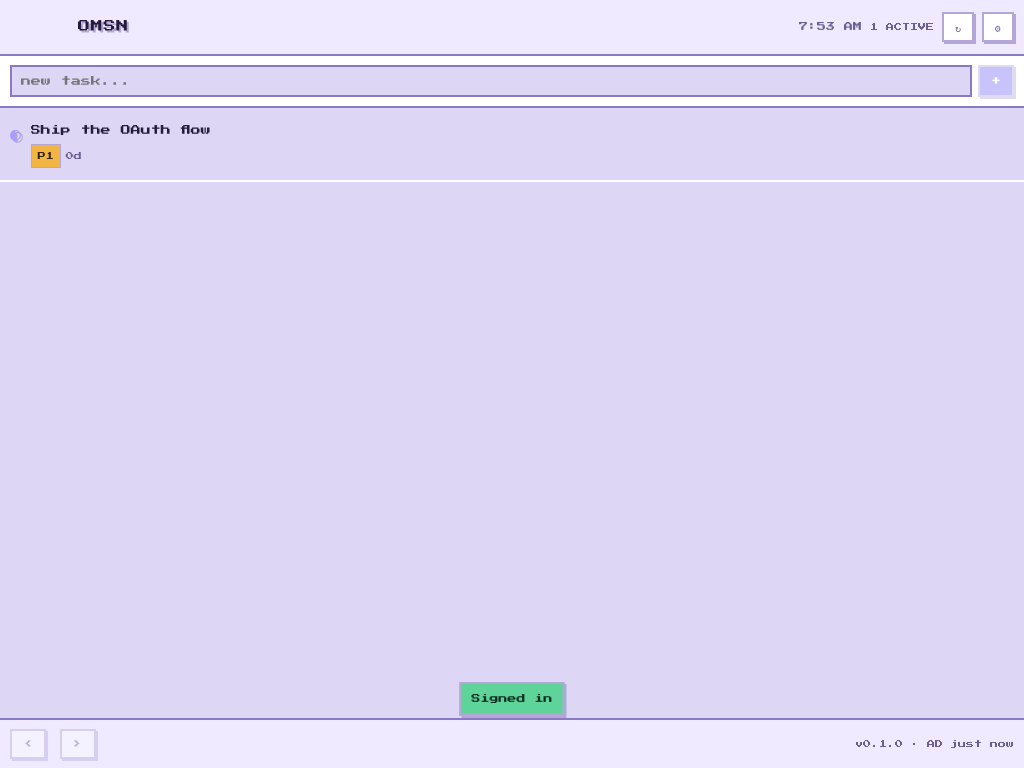
Scenario: deleting a task (R7) › asks first, and says the deletion cannot be undone
Check: the text "Ship the OAuth flow" is shown, box [31, 125, 211, 135]
Click the button "Ship the OAuth flow P1 0d". click: (121, 130)
box: [31, 125, 211, 168]
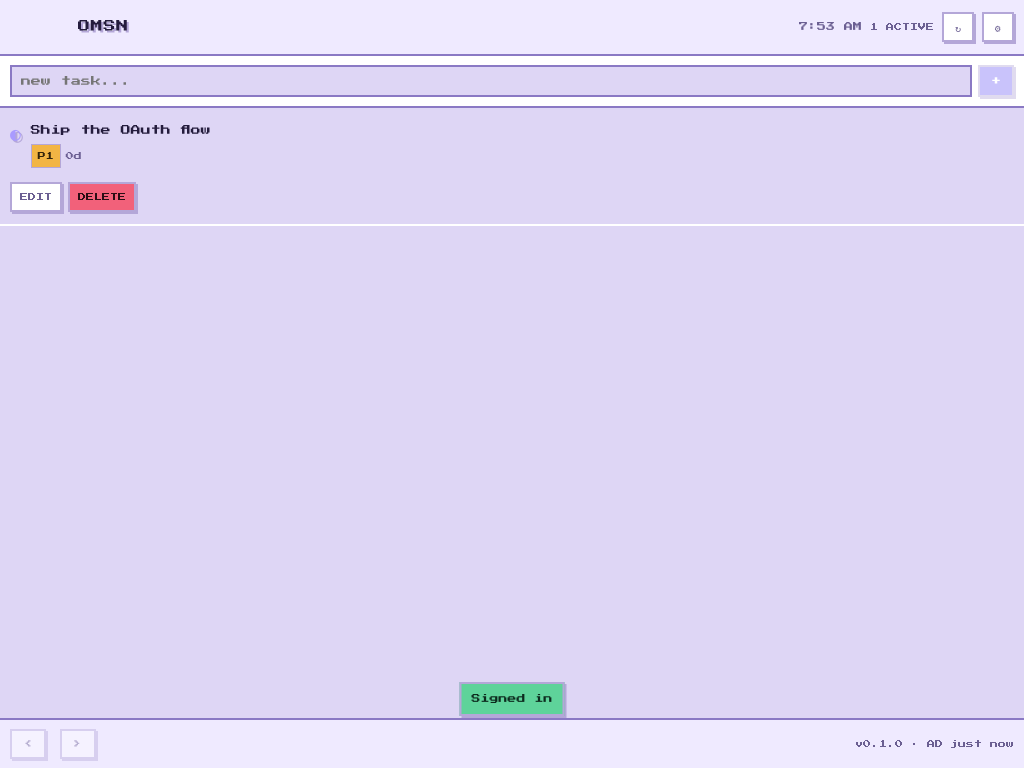
Click the button "DELETE". click: (102, 197)
box: [68, 182, 136, 212]
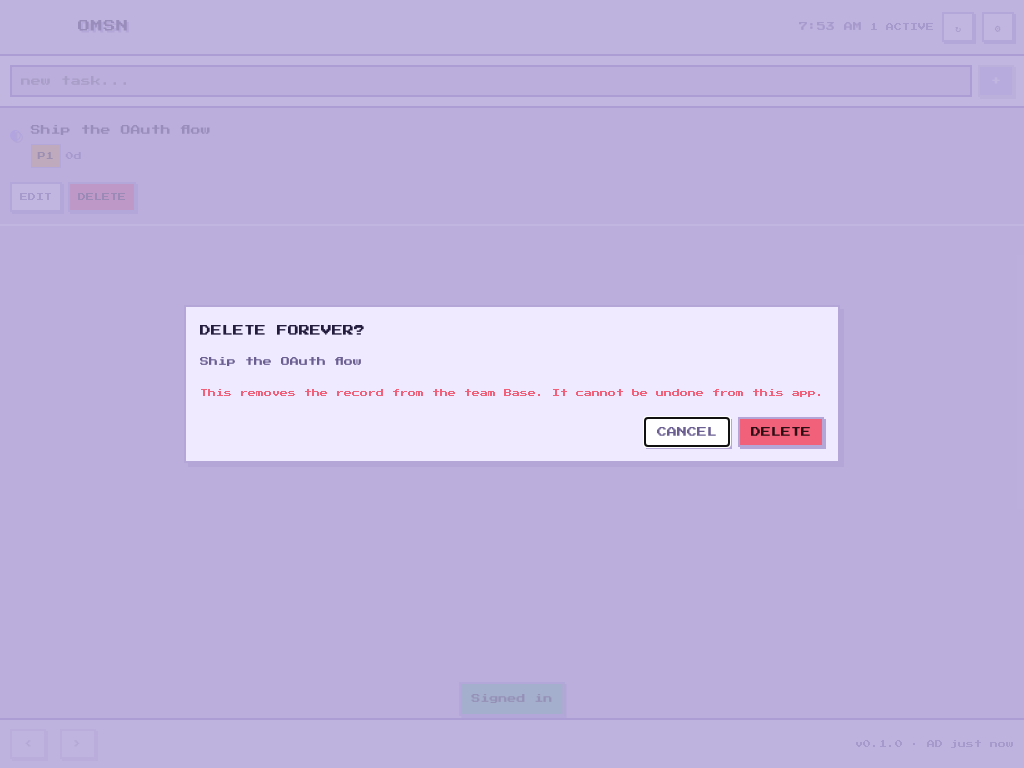
Check: the element with class "confirm" is shown
Check: the text "cannot be undone" is shown, box [200, 389, 824, 397]
Check: the element with class "confirm" shows "Ship the OAuth flow", box [200, 357, 362, 366]
